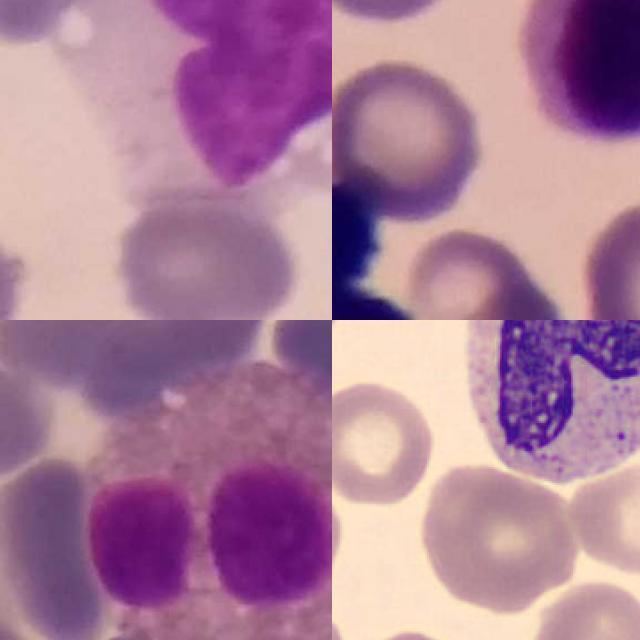Eosinophil: (91, 355, 332, 640)
Lymphocyte: (446, 320, 640, 495), (511, 0, 640, 141)
Monocyte: (98, 0, 332, 197)
RBC: (413, 464, 585, 612), (332, 375, 439, 509), (565, 456, 640, 578), (532, 578, 640, 640), (342, 624, 484, 640)
